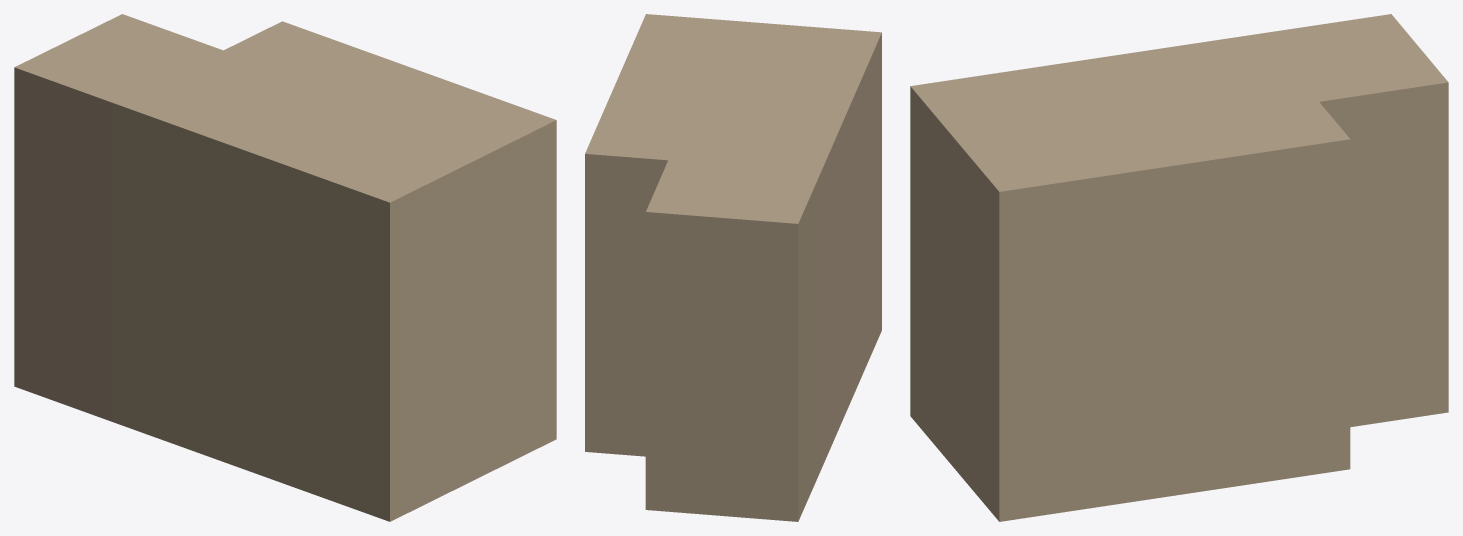
The model's file is bld_107639487.dae.
3 renders of one model, left to right at view 1: azimuth 30°, elevation 25°; view 2: azimuth 150°, elevation 25°; view 3: azimuth 270°, elevation 25°, orthographic. The views are drawn at different scales.
Visible parts, largest first — view 1: bld_107639487; view 2: bld_107639487; view 3: bld_107639487.
Part boxes in pixels (x1=…): bld_107639487: x1=14, y1=14, x2=556, y2=521; bld_107639487: x1=585, y1=14, x2=881, y2=521; bld_107639487: x1=910, y1=14, x2=1448, y2=521.
Bounding box in the file's own units: 9.25 × 11.83 × 8.
